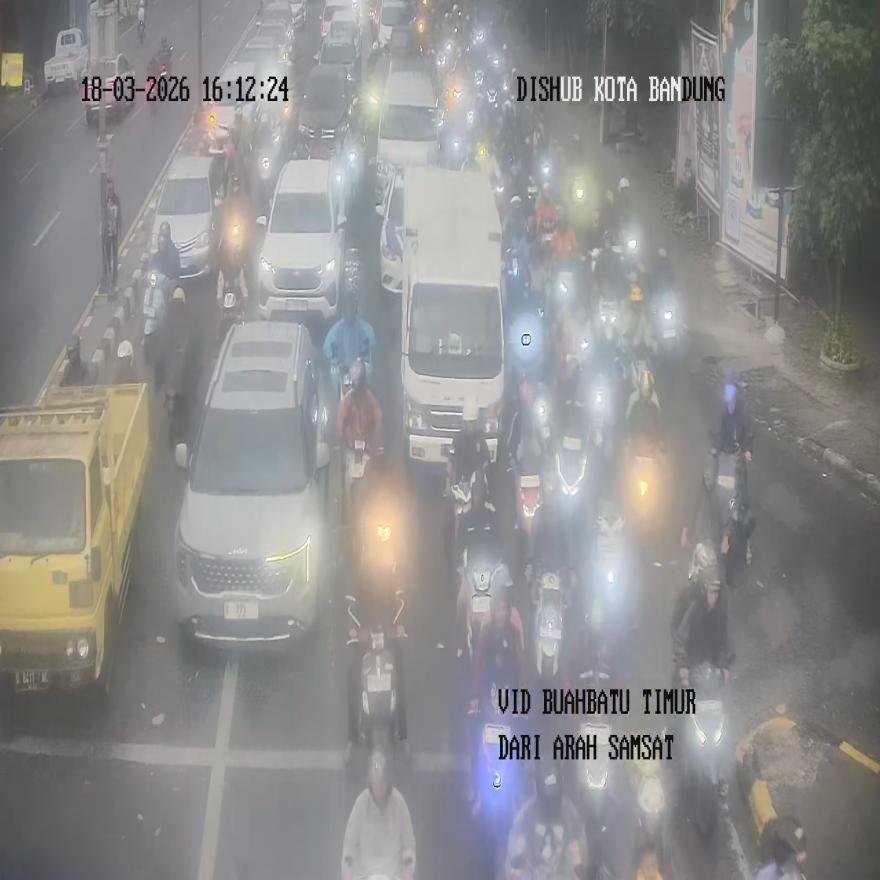Mobil: (172, 319, 334, 648), (256, 156, 348, 324)
